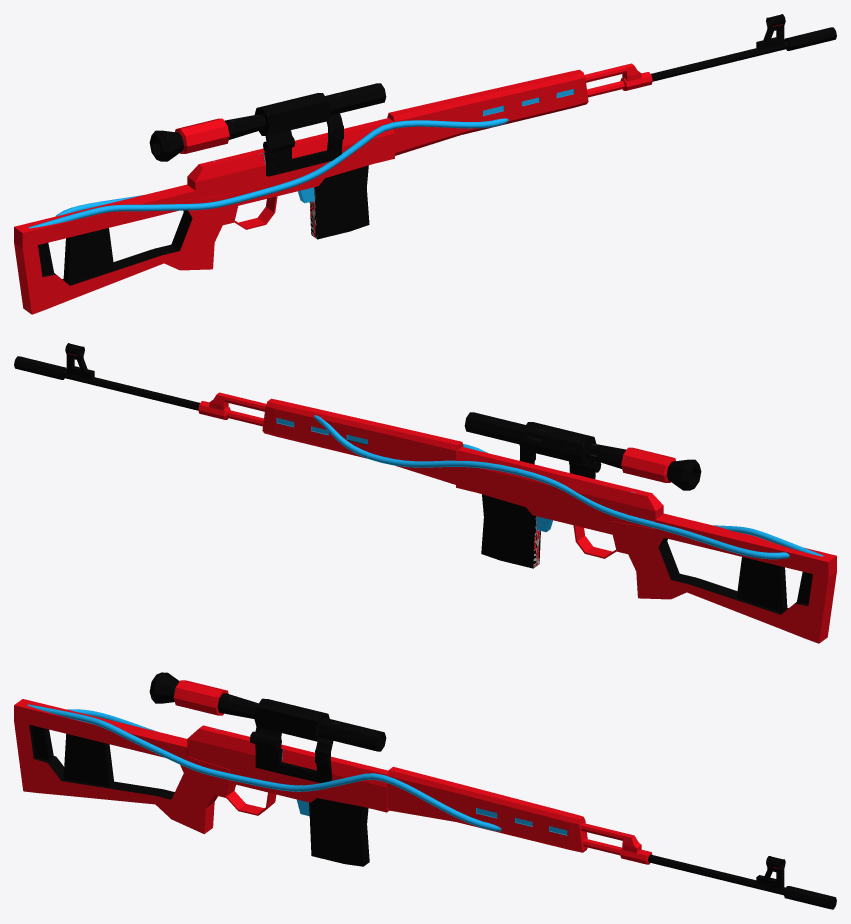
File: Sniper.fbx
3 renders of one model, top to bottom at view 1: azimuth 30°, elevation 25°; view 2: azimuth 150°, elevation 25°; view 3: azimuth 330°, elevation 25°, orthographic.
Parts seen in each view (by area): view 1: Sniper, BezierCurve, Charger; view 2: Sniper, BezierCurve, Charger; view 3: Sniper, BezierCurve, Charger.
Boxes of the visible parts, x1,y1,x2,y2 form: Sniper: (14,14,836,314); BezierCurve: (28,118,508,228); Charger: (309,165,369,239); Sniper: (14,343,836,643); BezierCurve: (314,415,823,559); Charger: (481,494,540,568); Sniper: (14,672,836,909); BezierCurve: (27,704,501,831); Charger: (309,798,369,866).
Bounding box in the file's own units: 864 × 150 × 40.4.
Materials: 2 (1 with a texture image).
